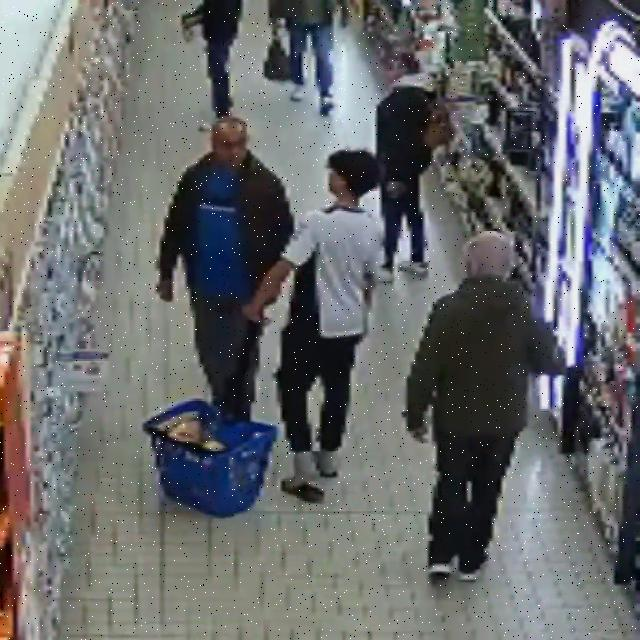bags: (423, 76, 456, 148), (263, 28, 290, 82)
hands: (242, 302, 267, 324), (156, 281, 173, 302), (385, 181, 406, 198), (409, 428, 429, 443), (340, 10, 349, 28)
person: (407, 232, 564, 581), (247, 150, 379, 502), (158, 117, 293, 418), (376, 74, 452, 282), (270, 0, 349, 115), (188, 0, 242, 117)
